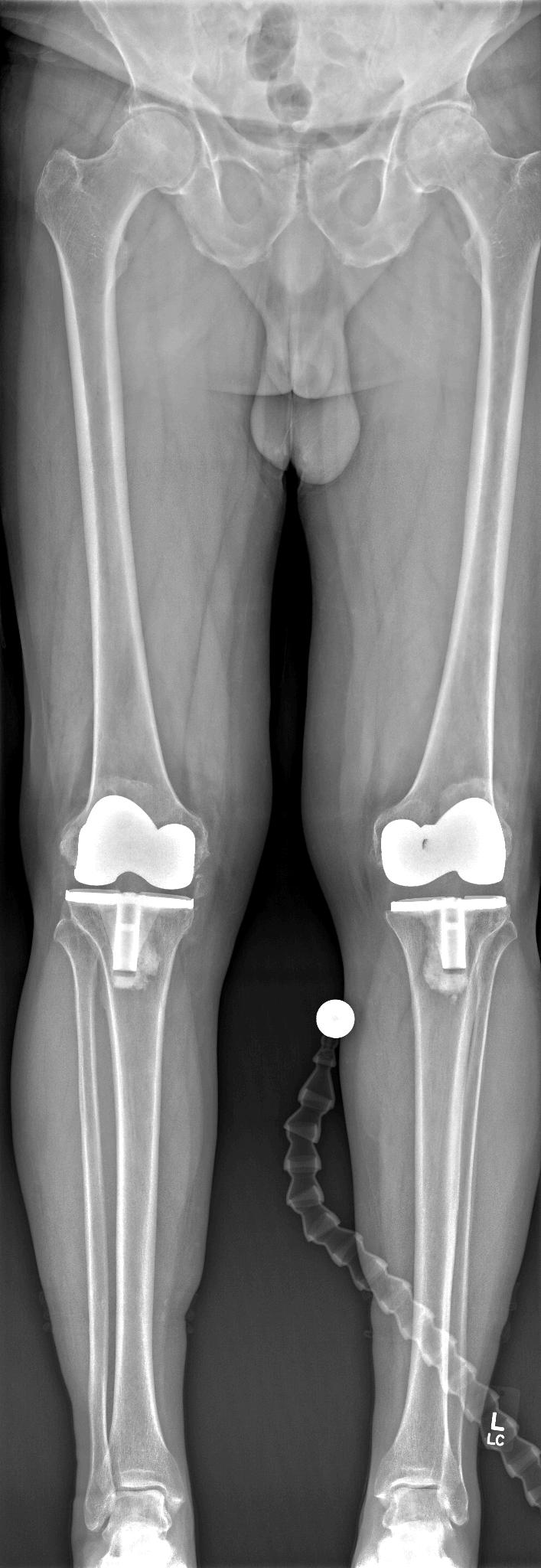Leg Fibula: (436, 920, 518, 1525), (55, 910, 114, 1529)
Leg Tibia: (374, 893, 508, 1508), (67, 887, 193, 1514)
femur: (36, 108, 204, 891), (374, 102, 541, 889)
